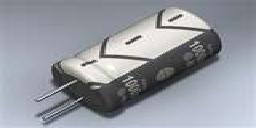Electrolytic-capacitor: (27, 6, 226, 121)
